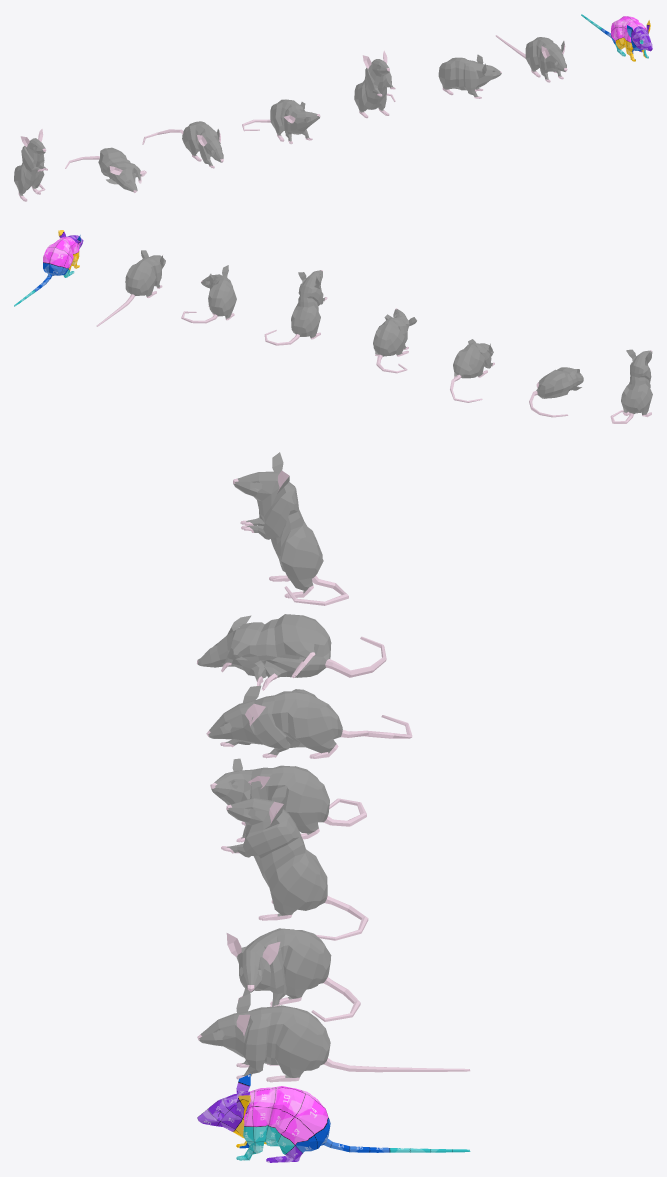
The model's file is mouse_-_free_demo.glb.
3 views of the same model, one above another, from view 1: azimuth 30°, elevation 25°; view 2: azimuth 150°, elevation 25°; view 3: azimuth 270°, elevation 25° (orthographic). The views are drawn at different scales.
Visible parts, largest first — view 1: StudioOchiMouse.001_2, StudioOchiMouse.002_3, StudioOchiMouse.003_4, StudioOchiMouse.006_7, StudioOchiMouse.004_5, StudioOchiMouse.007_0, StudioOchiMouse.000_1, StudioOchiMouse.005_6; view 2: StudioOchiMouse.002_3, StudioOchiMouse.006_7, StudioOchiMouse.003_4, StudioOchiMouse.007_0, StudioOchiMouse.000_1, StudioOchiMouse.004_5, StudioOchiMouse.001_2, StudioOchiMouse.005_6; view 3: StudioOchiMouse.007_0, StudioOchiMouse.002_3, StudioOchiMouse.000_1, StudioOchiMouse.004_5, StudioOchiMouse.005_6, StudioOchiMouse.006_7, StudioOchiMouse.001_2, StudioOchiMouse.003_4.
Part boxes in pixels (x1,y1,x2,y2): StudioOchiMouse.001_2: (438, 54, 501, 98); StudioOchiMouse.002_3: (354, 50, 395, 118); StudioOchiMouse.003_4: (242, 99, 320, 144); StudioOchiMouse.006_7: (14, 129, 47, 201); StudioOchiMouse.004_5: (142, 121, 223, 168); StudioOchiMouse.007_0: (581, 14, 652, 61); StudioOchiMouse.000_1: (495, 35, 567, 82); StudioOchiMouse.005_6: (65, 147, 146, 192); StudioOchiMouse.002_3: (264, 270, 327, 345); StudioOchiMouse.006_7: (610, 349, 652, 423); StudioOchiMouse.003_4: (373, 308, 416, 373); StudioOchiMouse.007_0: (14, 230, 83, 306); StudioOchiMouse.000_1: (96, 250, 165, 326); StudioOchiMouse.004_5: (450, 339, 494, 402); StudioOchiMouse.001_2: (181, 265, 236, 323); StudioOchiMouse.005_6: (529, 367, 583, 417); StudioOchiMouse.007_0: (197, 1074, 470, 1162); StudioOchiMouse.002_3: (221, 785, 368, 940); StudioOchiMouse.000_1: (197, 993, 470, 1082); StudioOchiMouse.004_5: (206, 685, 412, 758); StudioOchiMouse.005_6: (197, 614, 386, 690); StudioOchiMouse.006_7: (233, 452, 348, 605); StudioOchiMouse.001_2: (226, 928, 360, 1021); StudioOchiMouse.003_4: (210, 758, 366, 842).
Size of the model in its own units: 1.46 by 0.1473 by 0.2867.
3 materials, 1 textured.
